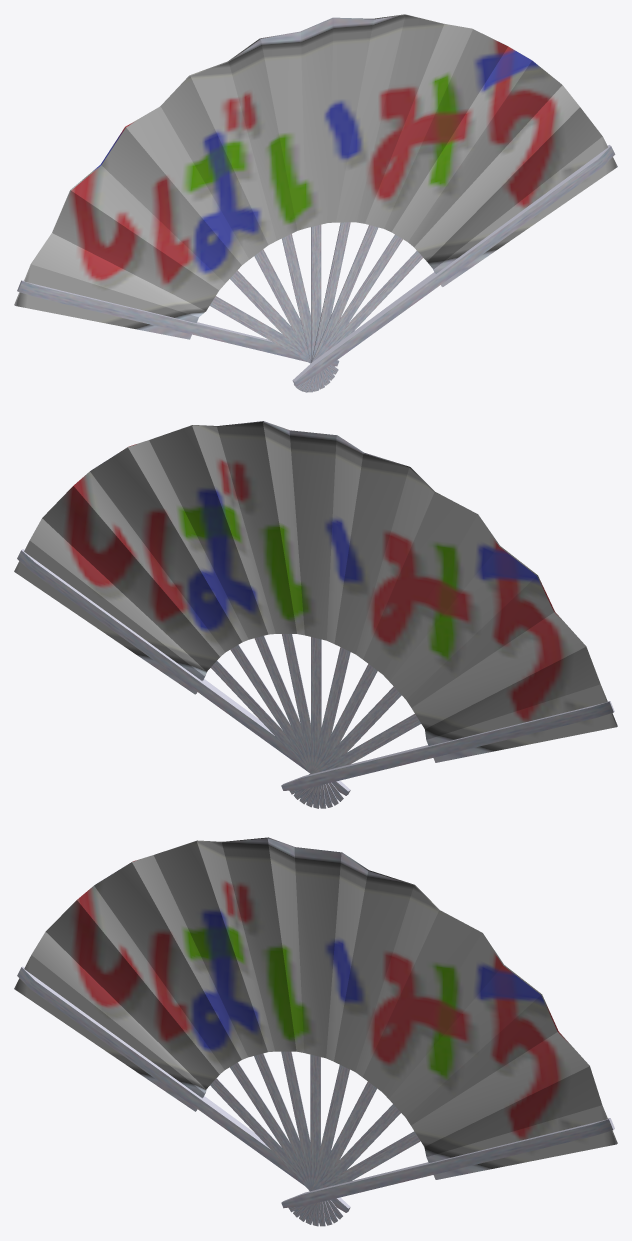
Rendered from static.ico.obj.
The picture shows the model from 3 angles, top to bottom: view 1: azimuth 30°, elevation 25°; view 2: azimuth 150°, elevation 25°; view 3: azimuth 330°, elevation 25°; orthographic projection. The views are drawn at different scales.
Bounding box in the file's own units: 4.79 × 2.81 × 0.2039.
